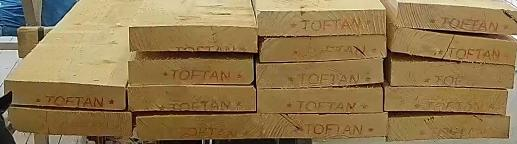Wood-Plank: (390, 27, 517, 67), (389, 59, 514, 89), (8, 106, 132, 136), (397, 3, 517, 34), (385, 84, 508, 114), (256, 60, 385, 88), (5, 80, 125, 110), (260, 34, 387, 62), (258, 85, 384, 113), (128, 85, 257, 112), (257, 112, 387, 138), (258, 9, 388, 35), (128, 26, 256, 51), (127, 59, 253, 84), (136, 114, 260, 139), (387, 116, 511, 141)
